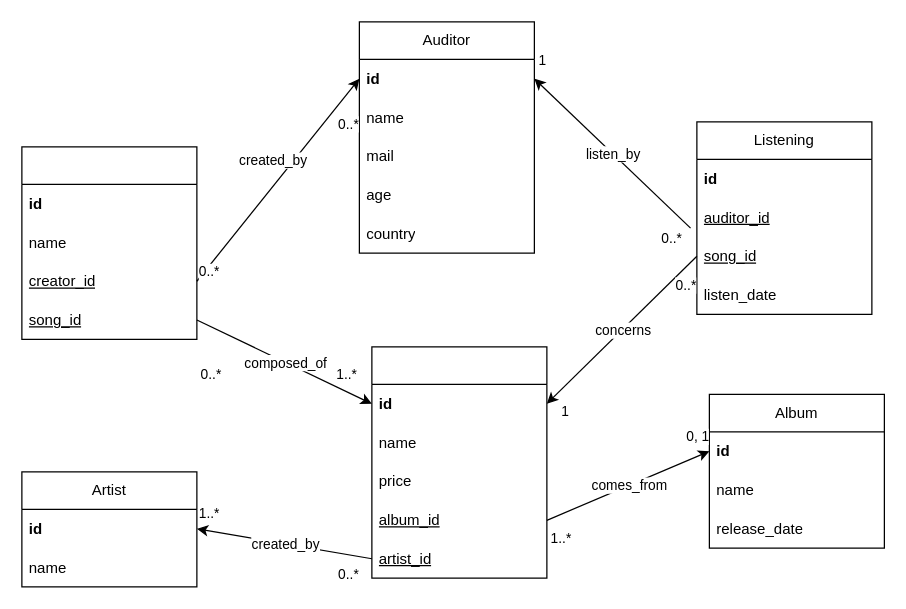
This 906x609 diagram has some shape labels left out. Here are the shapes that lost their labels. From the top down, the box of each, then its label:
(21, 146, 197, 339): Playlist
(371, 346, 547, 578): Song
